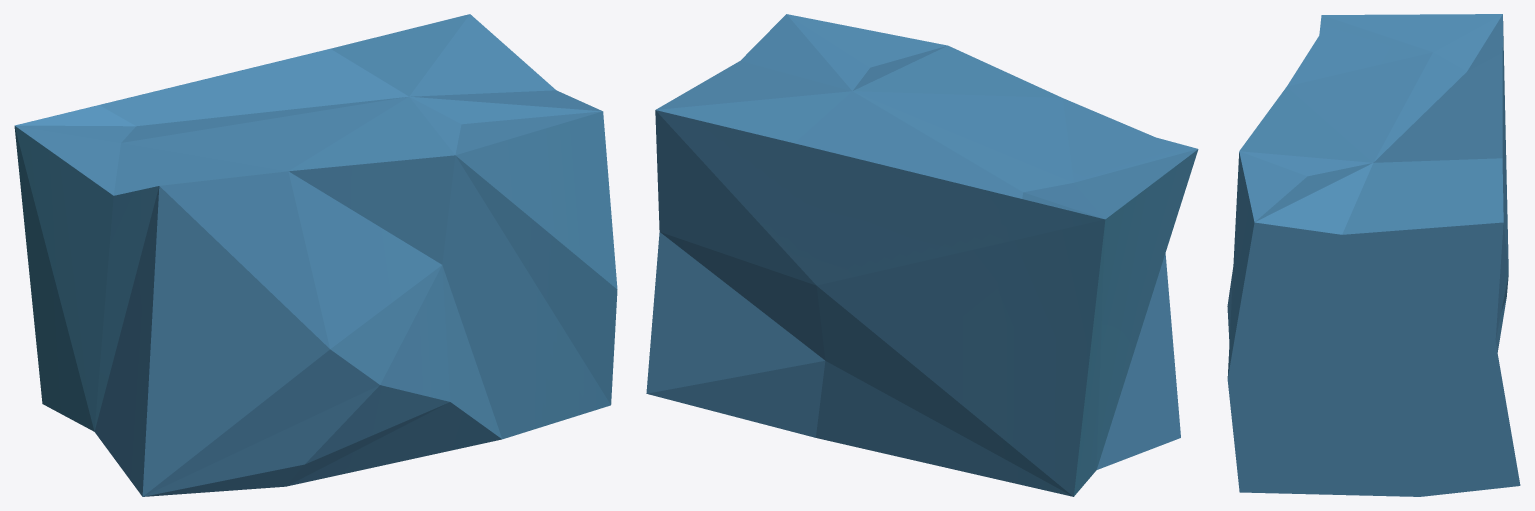
Rendered from sp_rock05.glb.
3 views of the same model, side by side, from view 1: azimuth 30°, elevation 25°; view 2: azimuth 150°, elevation 25°; view 3: azimuth 270°, elevation 25° (orthographic). The views are drawn at different scales.
Parts seen in each view (by area): view 1: SP_Rock05; view 2: SP_Rock05; view 3: SP_Rock05.
Part boxes in pixels (x1,y1,x2,y2): SP_Rock05: (14, 14, 617, 496); SP_Rock05: (646, 14, 1198, 496); SP_Rock05: (1227, 14, 1520, 496).
Bounding box in the file's own units: 163 × 108 × 97.07.
Materials: 1 (1 with a texture image).
